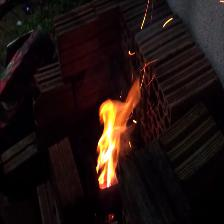fire: (88, 63, 157, 198)
